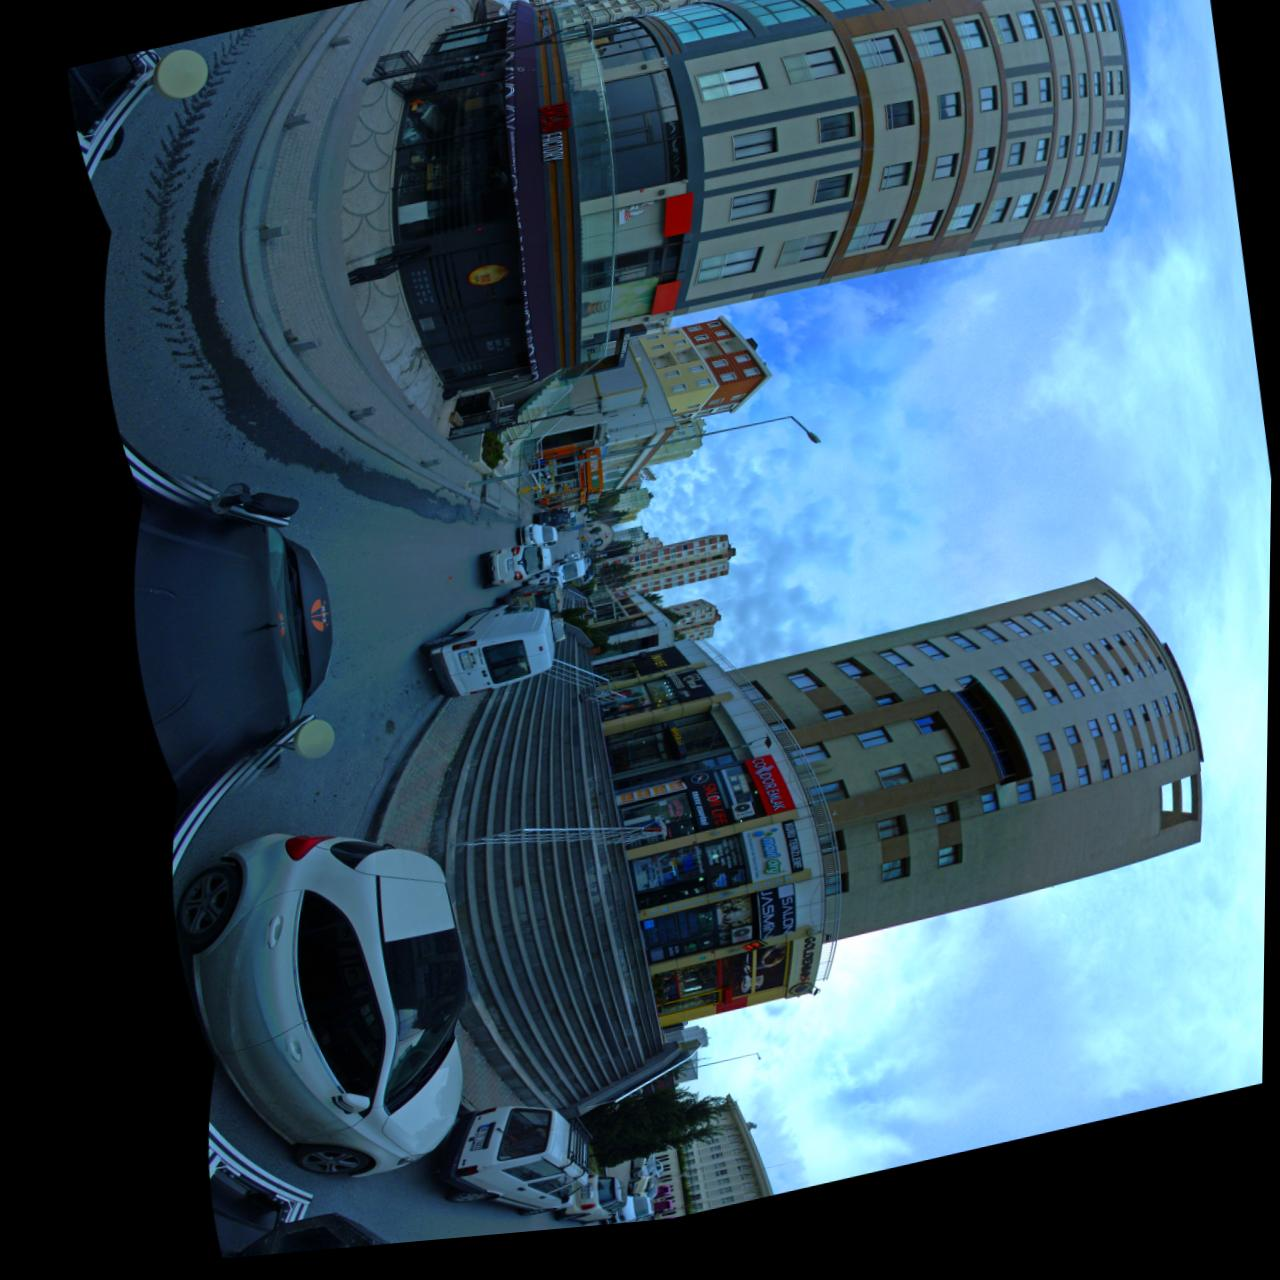SignStore: (744, 838, 805, 899), (682, 782, 736, 845), (747, 768, 801, 830), (532, 109, 574, 177), (756, 899, 799, 954), (787, 949, 817, 1015), (632, 658, 693, 689), (665, 681, 714, 715), (665, 735, 693, 768), (588, 471, 602, 501), (587, 464, 598, 470)
